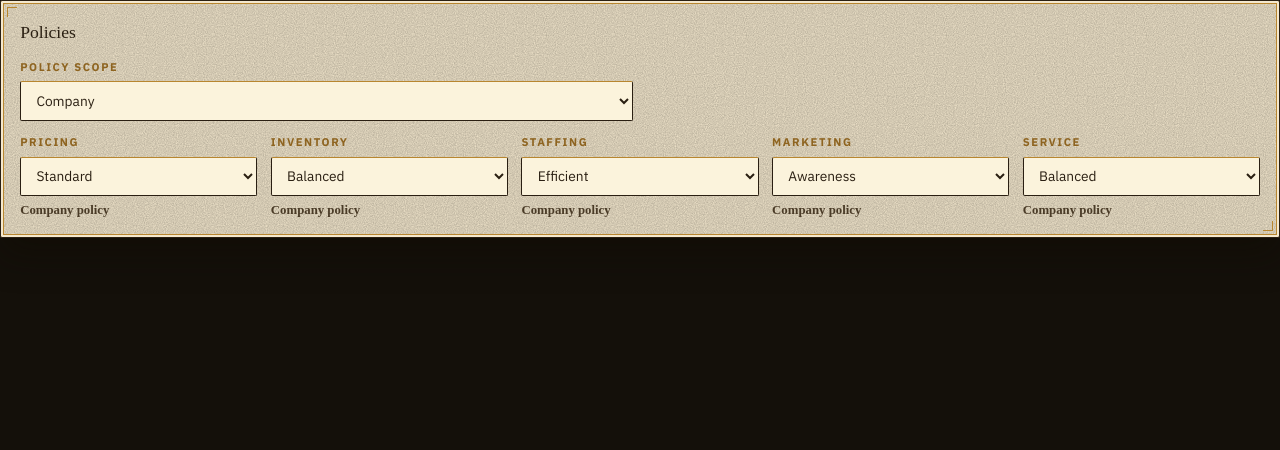
Scenario: PolicyPanel › disables scoped controls when canUpdateScoped is false
The width and height of the screenshot is (1280, 450).
Select "City" in the dropdown labelled "Policy scope": coordinates (327, 101) [20,81,633,121]
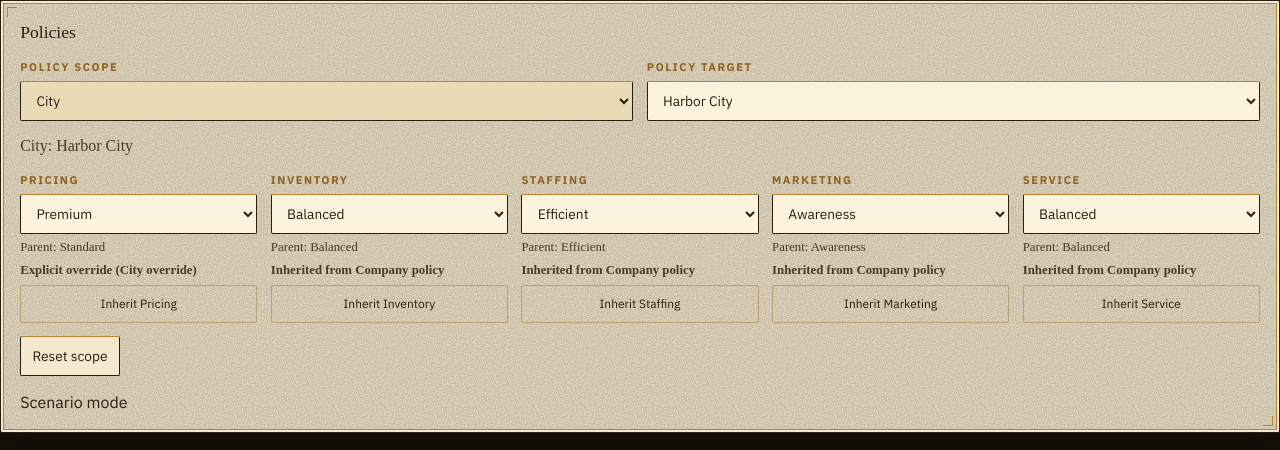
Expected: the dropdown named "Pricing" is disabled, [20,194,257,234]
Expected: the text "Scenario mode" is shown, [20,392,128,412]
